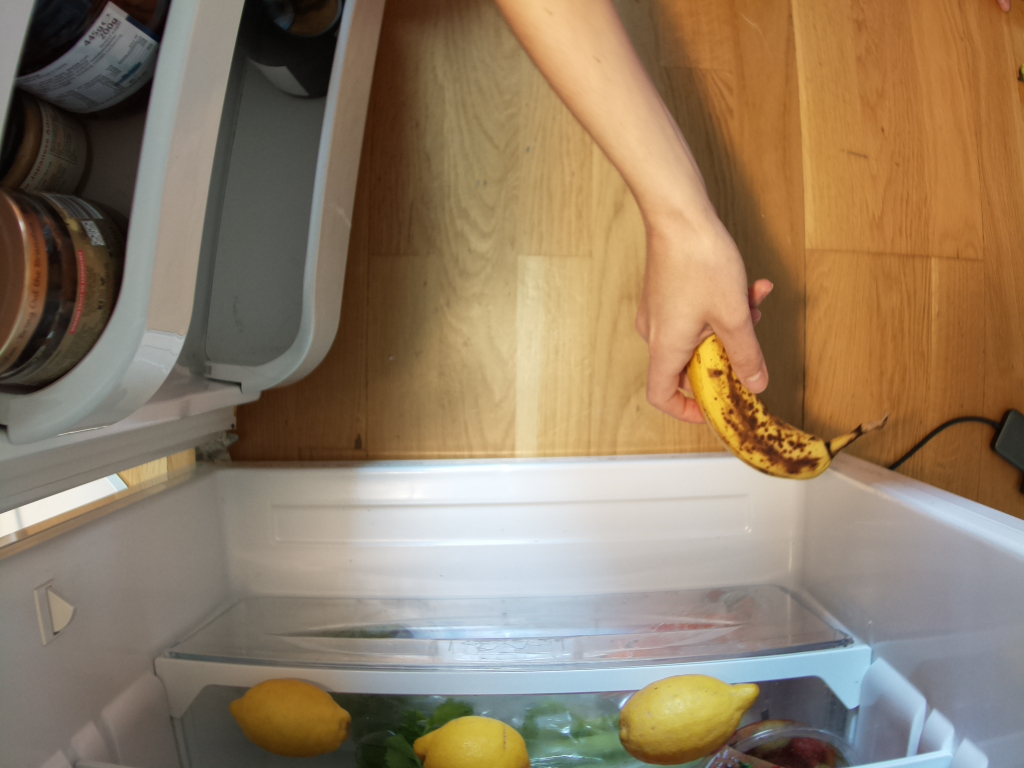banana-overripe: (691, 326, 889, 480)
